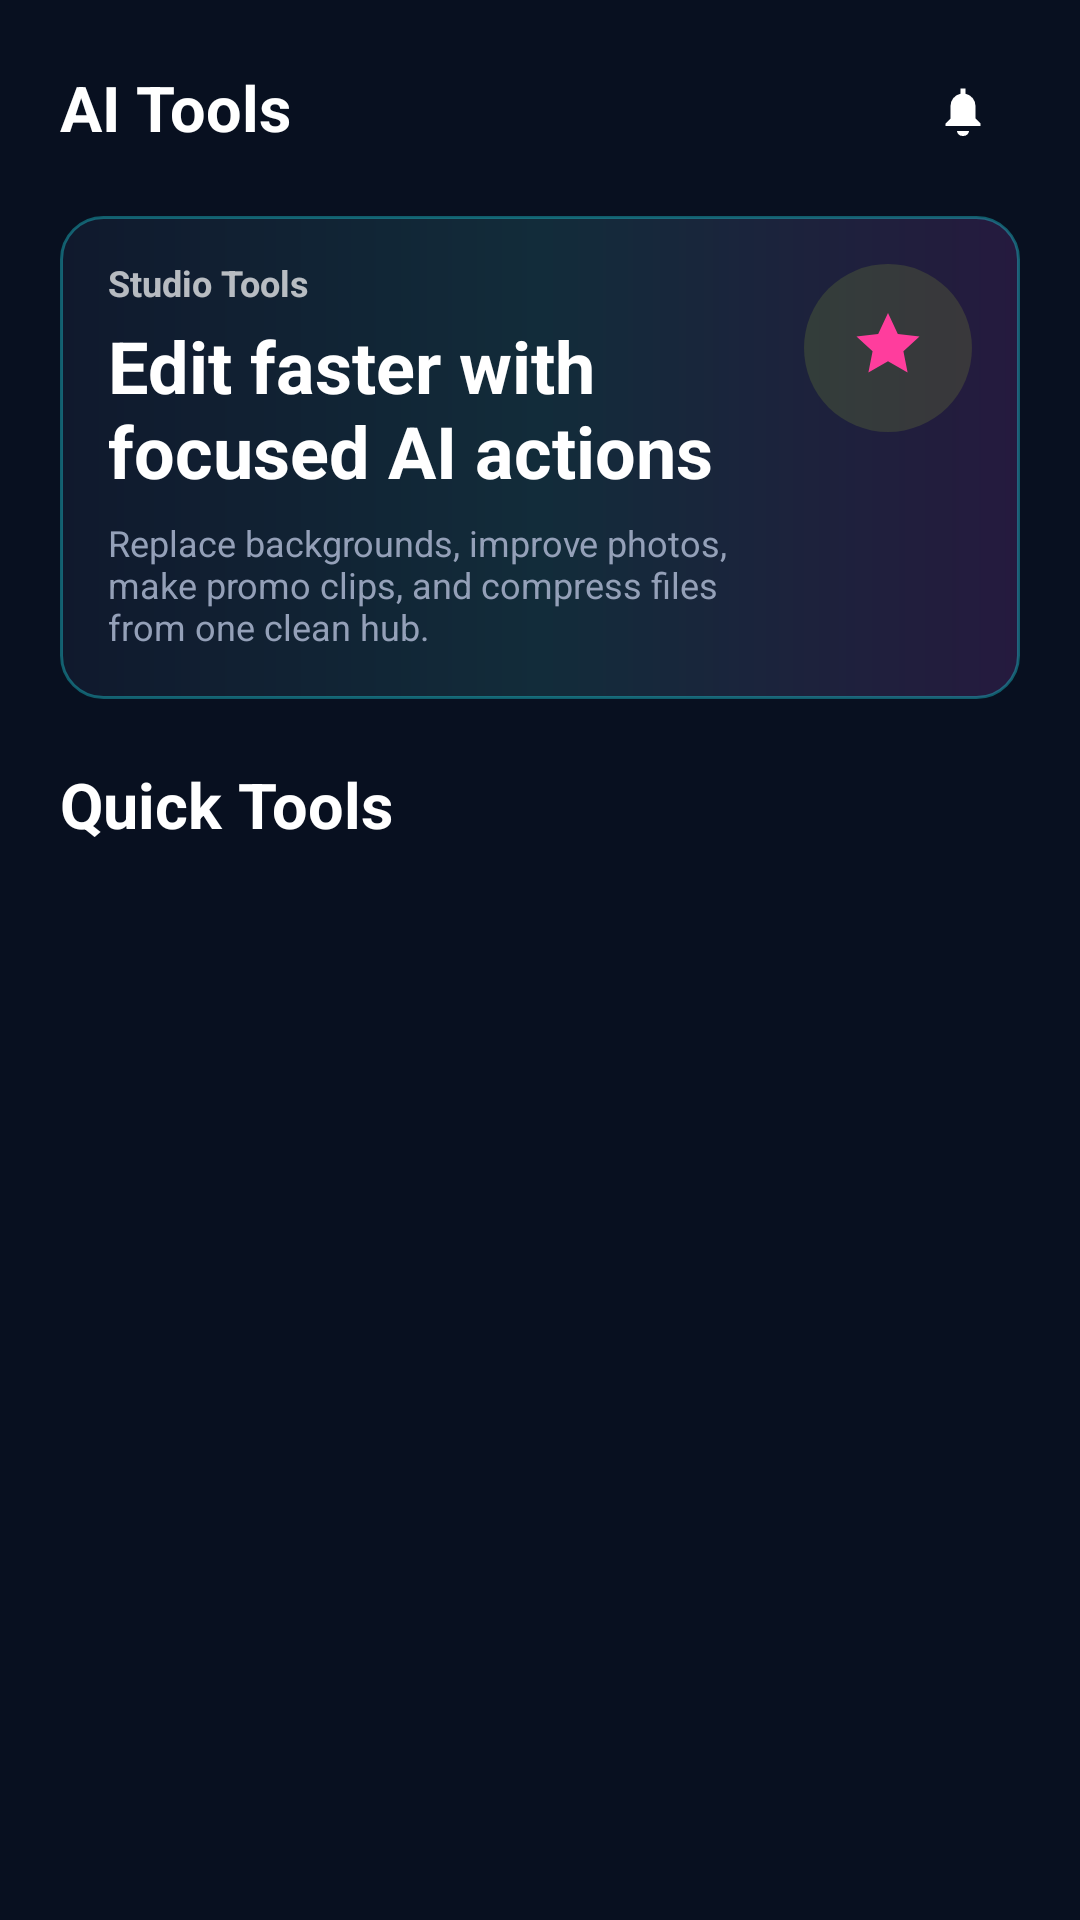

Where to tap for icons on this 1080 x 1920 app screen, as [x,y]:
lumora bell: [963,112]
lumora star: [888,348]
